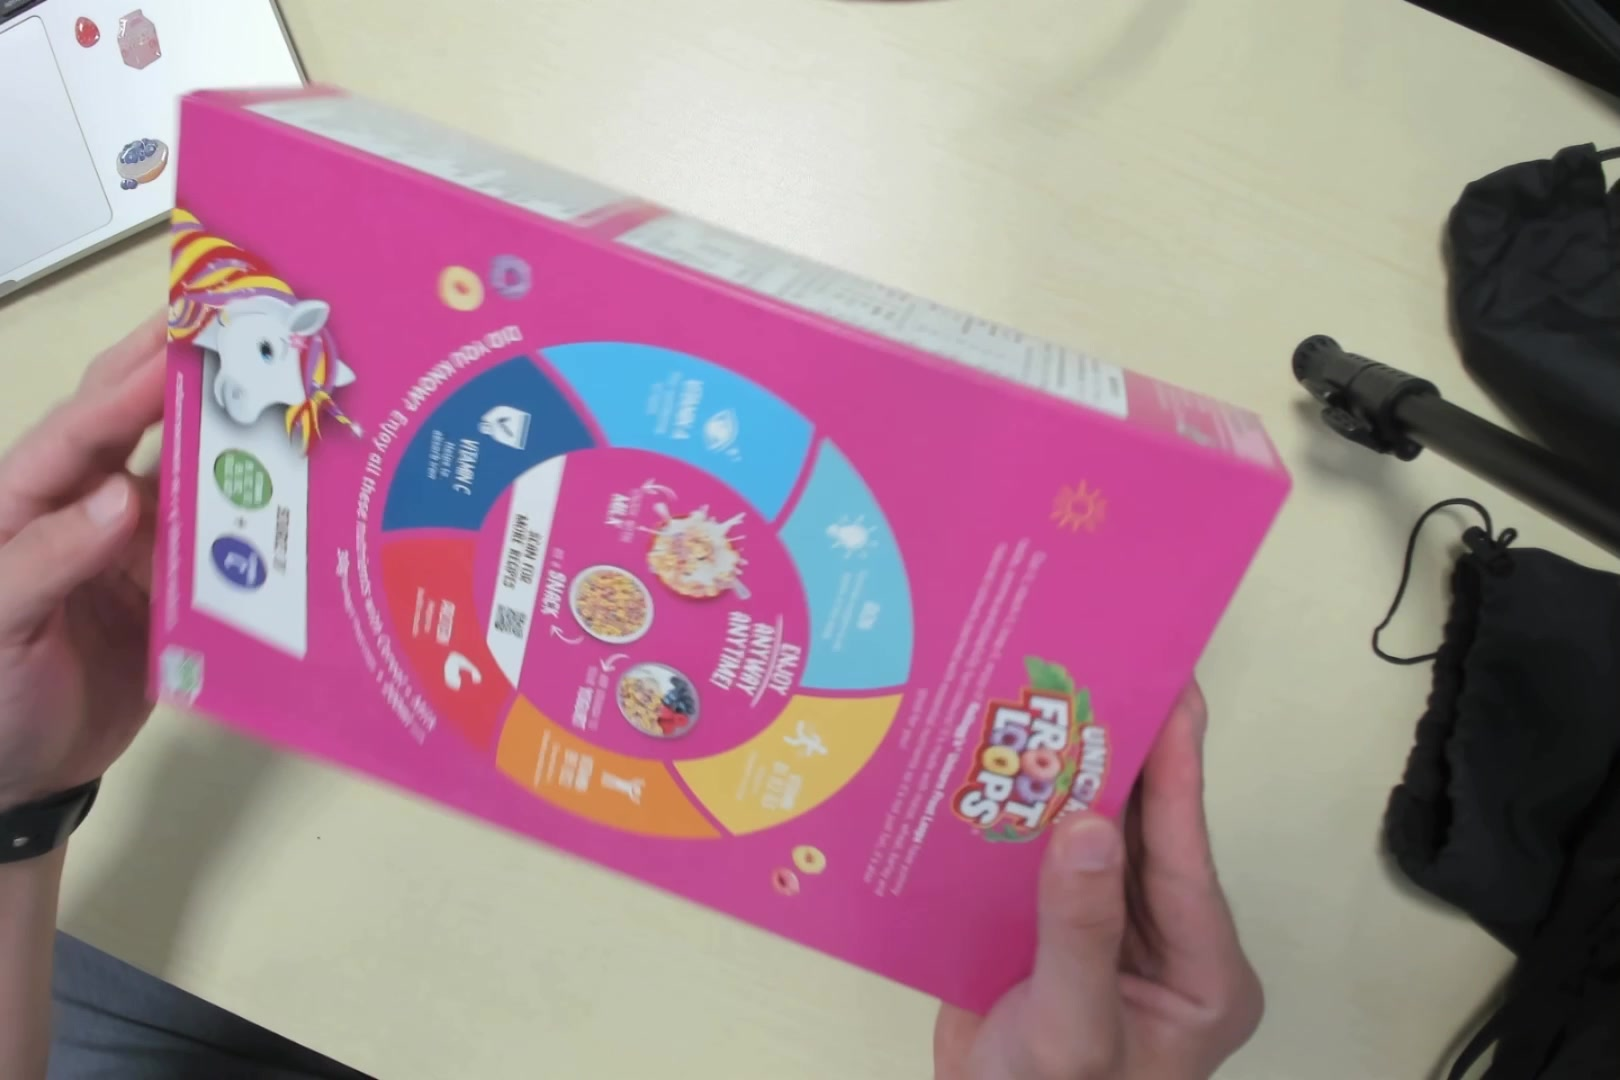BreakfastCereals_200-299g_Halal_NonHealthy: (147, 90, 1314, 910)
